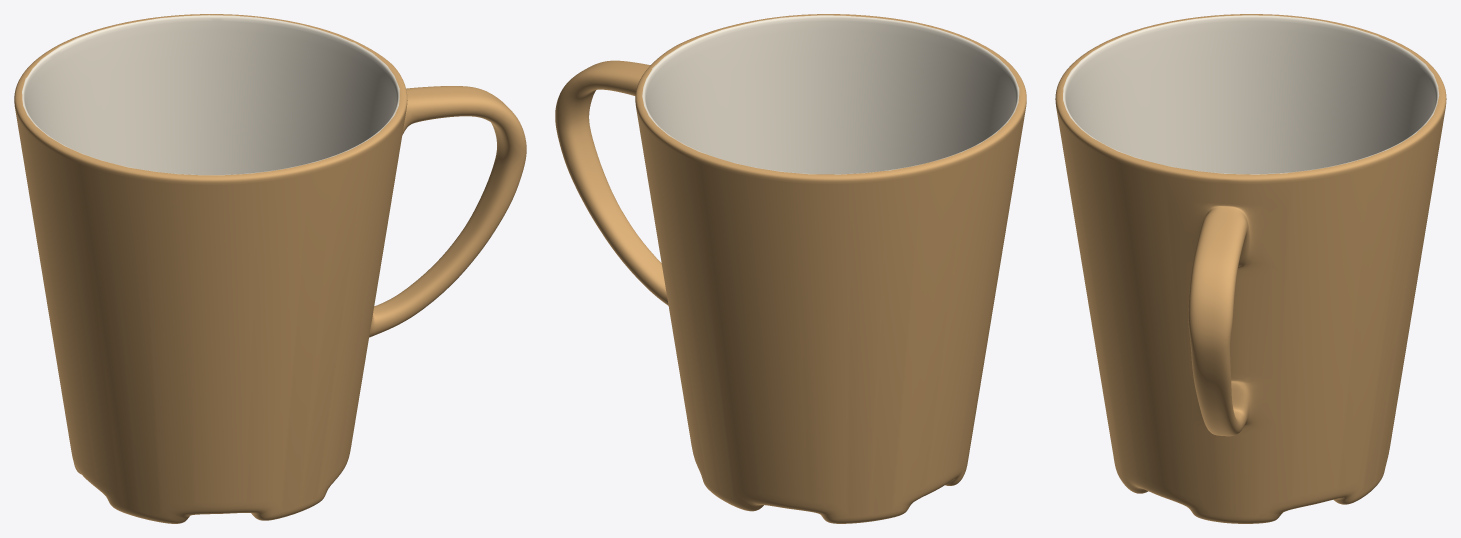
File: cup.glb
3 views of the same model, side by side, from view 1: azimuth 30°, elevation 25°; view 2: azimuth 150°, elevation 25°; view 3: azimuth 270°, elevation 25° (orthographic).
Parts seen in each view (by area): view 1: cup_body; view 2: cup_body; view 3: cup_body.
Part boxes in pixels (bbox=[...]): cup_body: bbox=[14, 14, 526, 523]; cup_body: bbox=[555, 14, 1026, 523]; cup_body: bbox=[1055, 14, 1446, 523].
Bounding box in the file's own units: 0.24 × 0.1877 × 0.1773.
